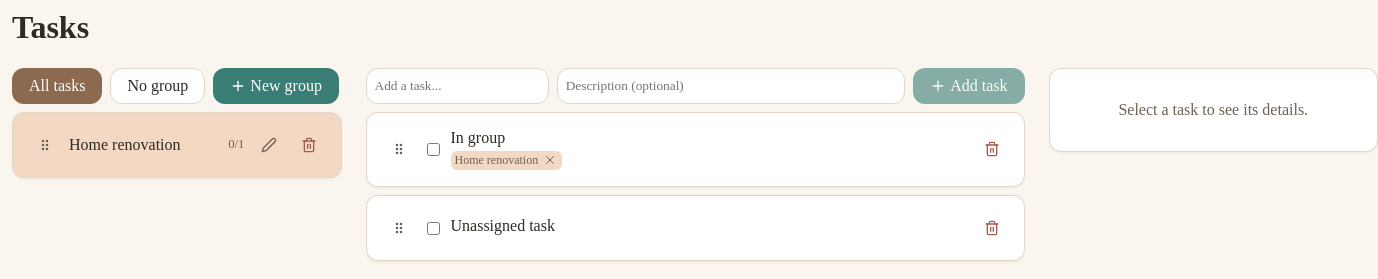
Test: TasksPage › filters the visible tasks to unassigned ones when No group is clicked
This screenshot has width=1378, height=279.
Expected: the link "In group" is shown, x1=450 y1=129 x2=505 y2=147
Click the button "No group" at (158, 86), box x1=110 y1=68 x2=205 y2=104
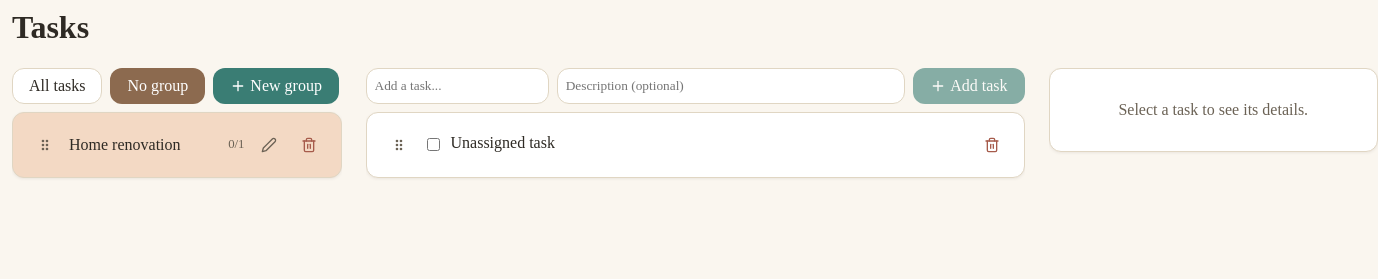
Expected: the link "Unassigned task" is shown, x1=450 y1=134 x2=555 y2=152
Expected: the link "In group" is gone
